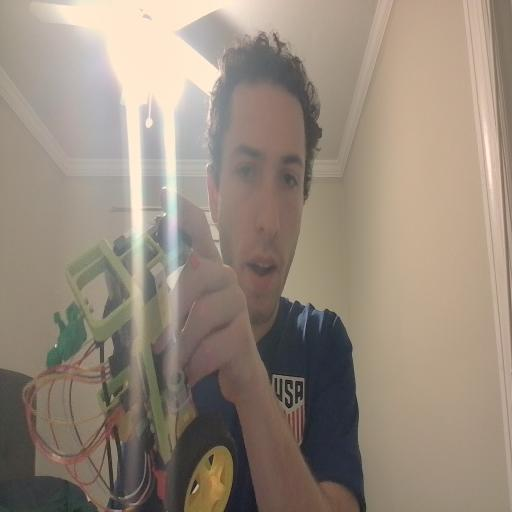green LEGO minifig: (45, 297, 89, 373)
